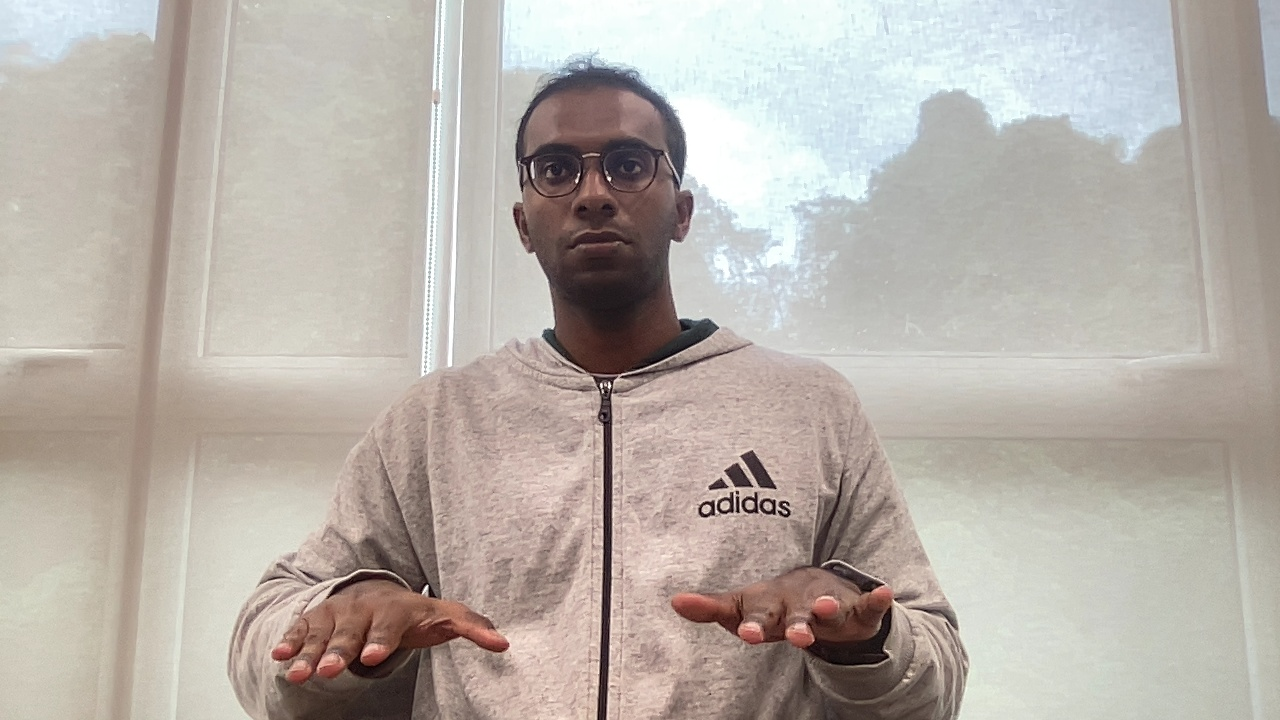finish: (264, 576, 903, 683)
